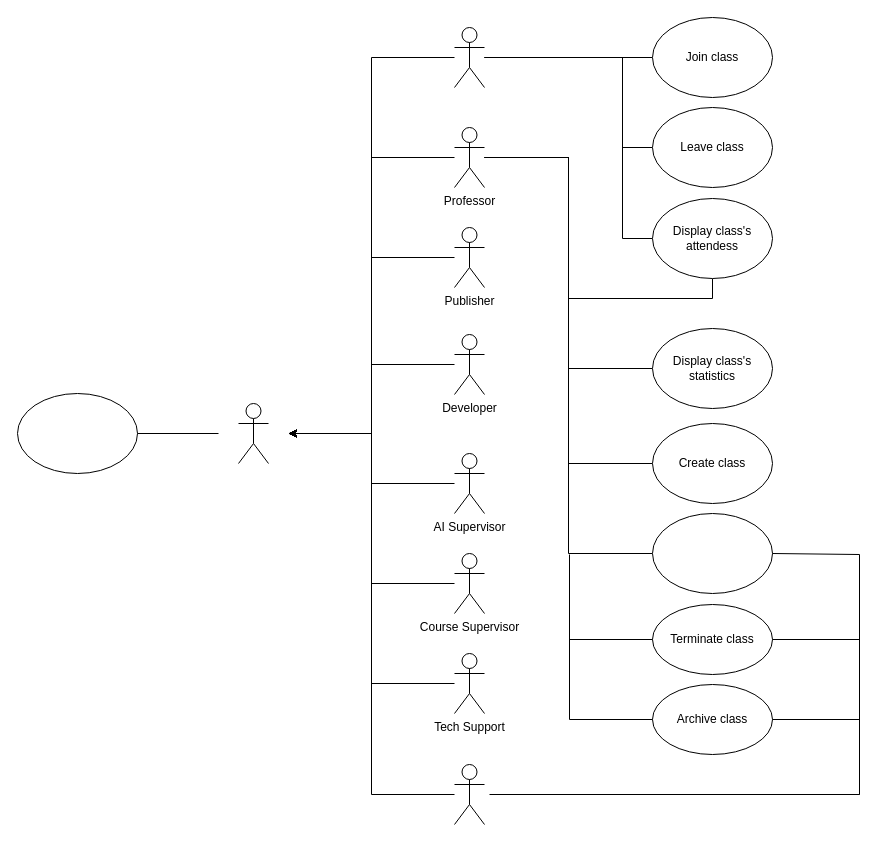
Image size: 878x863. Some labels were removed from this diagram. The shapes that lost their labels are listed below. From the top down, each one's box as (x1, y1, x2, y2) in pixels, then its label:
(454, 26, 484, 88): Student
(16, 392, 138, 474): View class
(238, 402, 268, 464): Registered User
(652, 512, 772, 594): Modify class
(454, 764, 484, 824): System Admin
